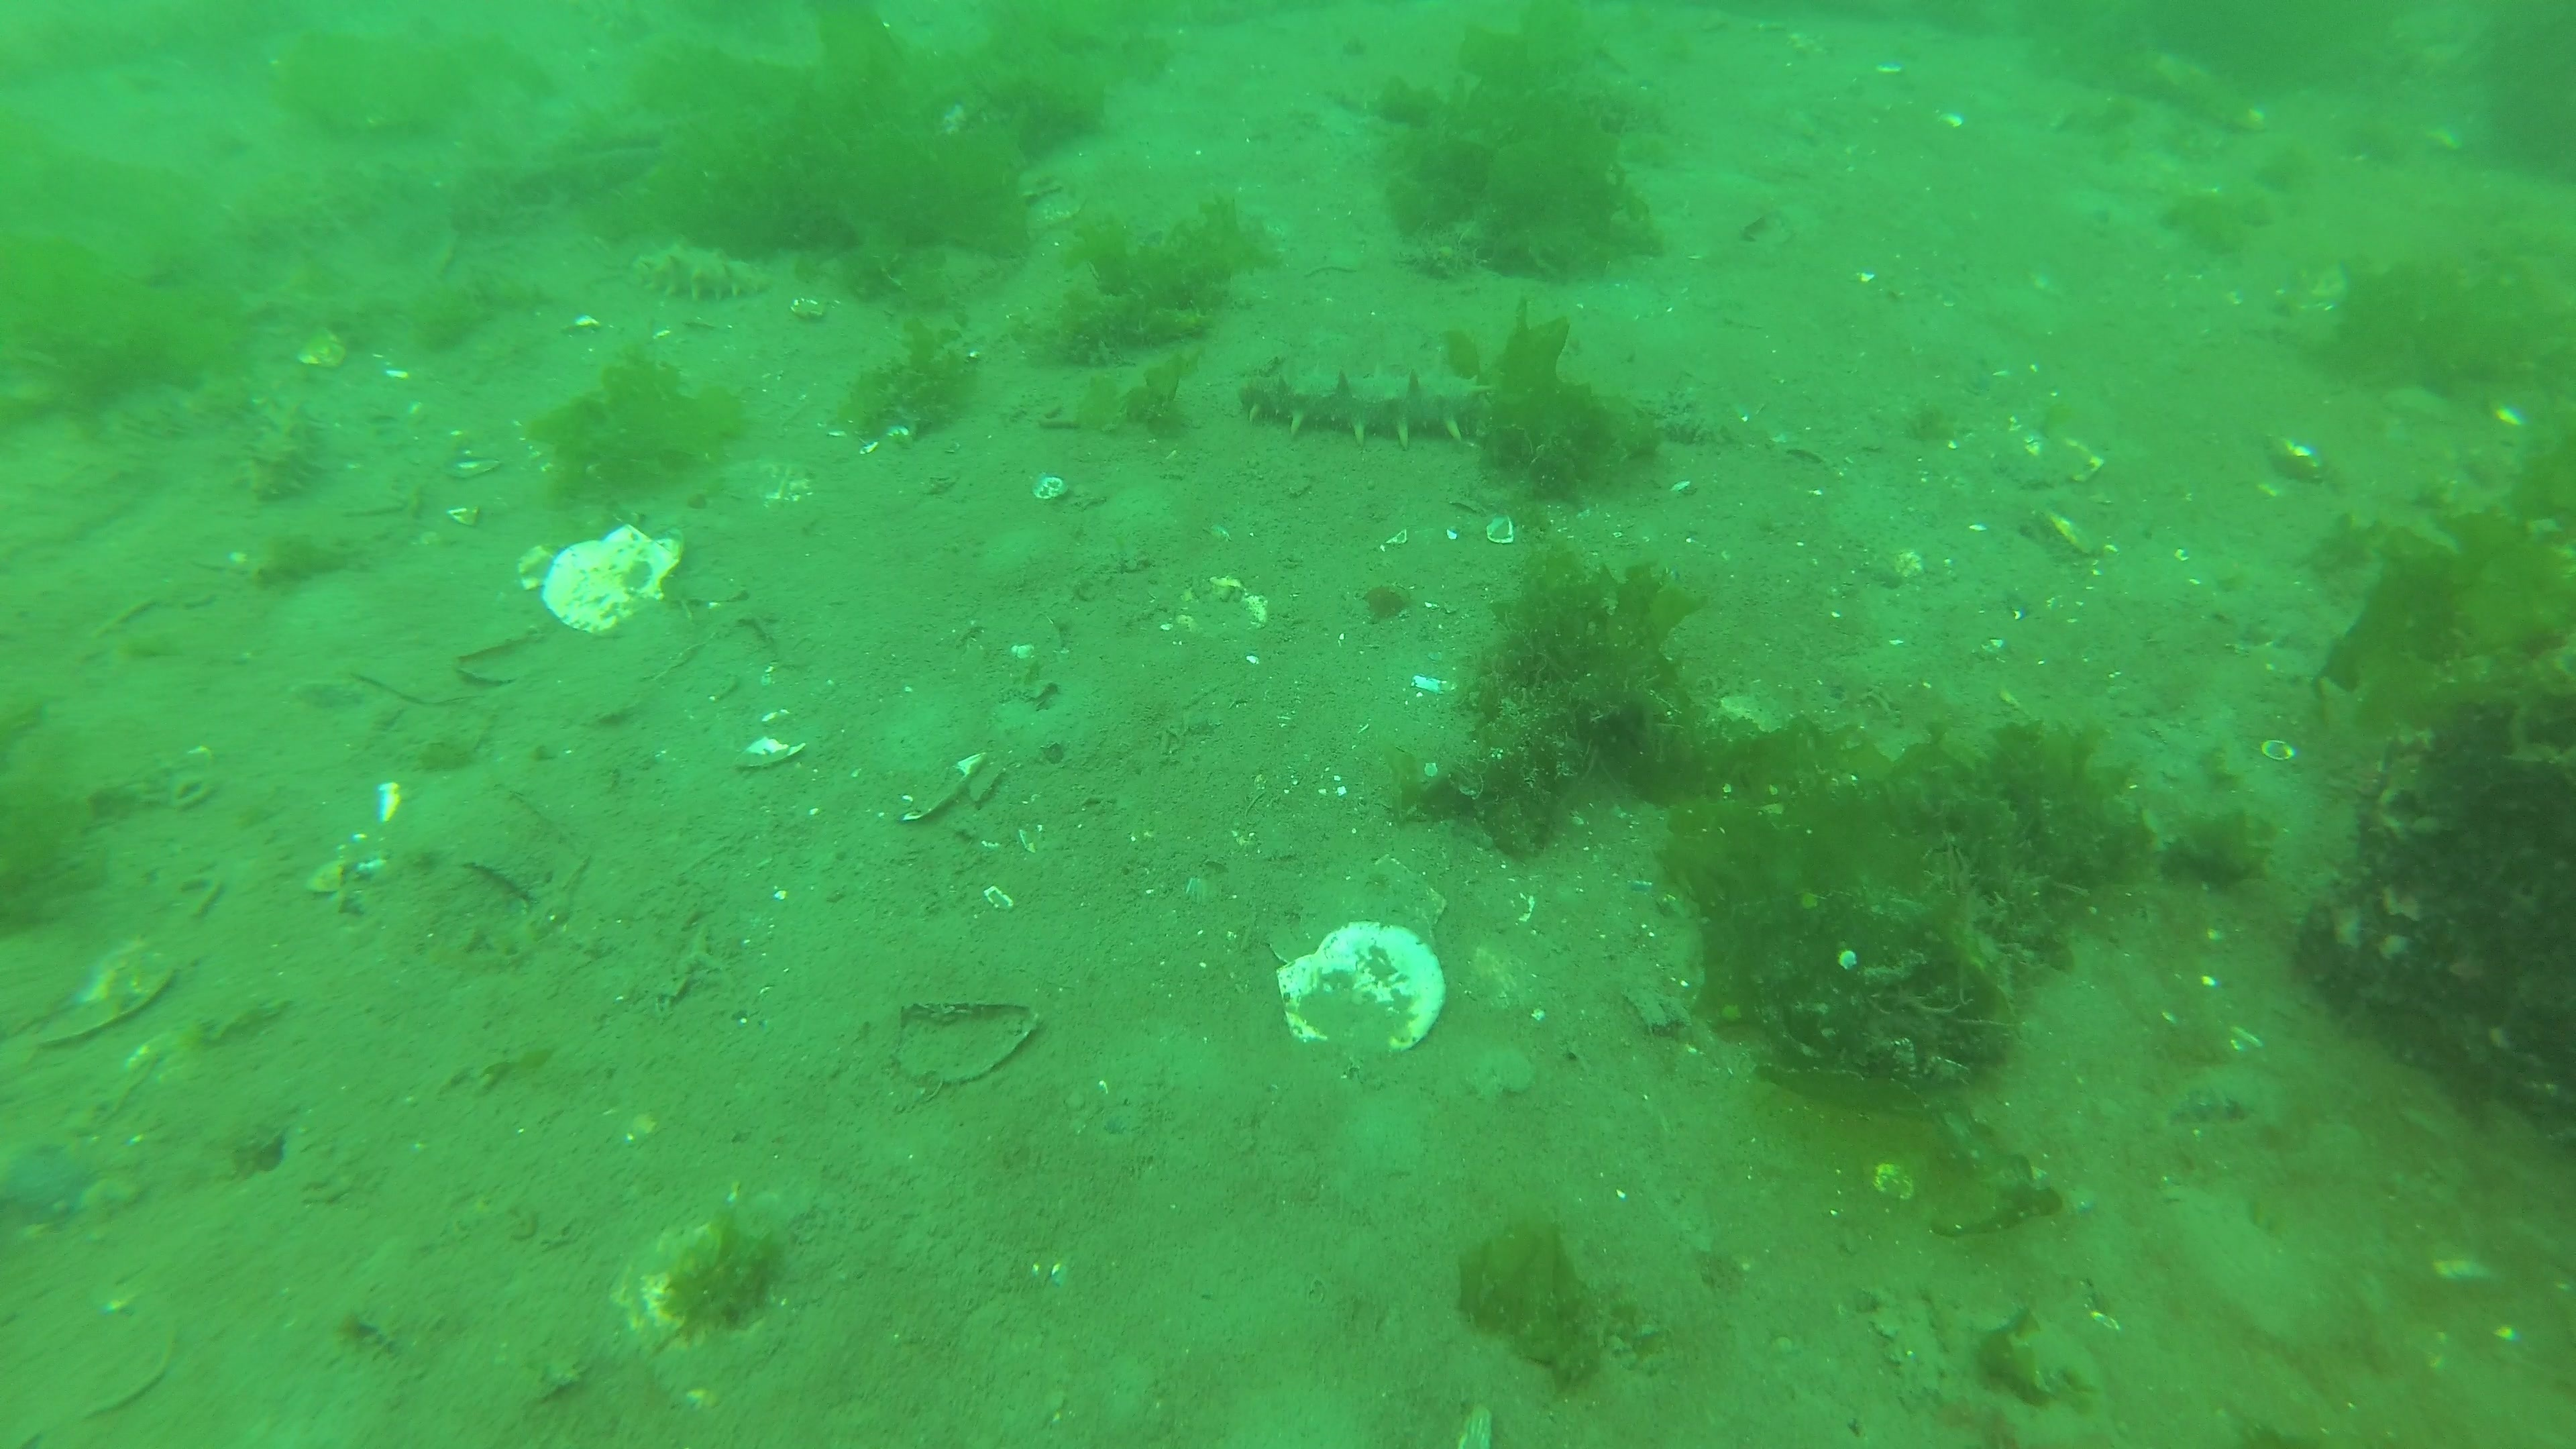holothurian: (1235, 359, 1488, 446), (623, 239, 763, 308), (244, 403, 331, 504)
scallop: (1276, 922, 1449, 1056), (543, 525, 683, 635)
